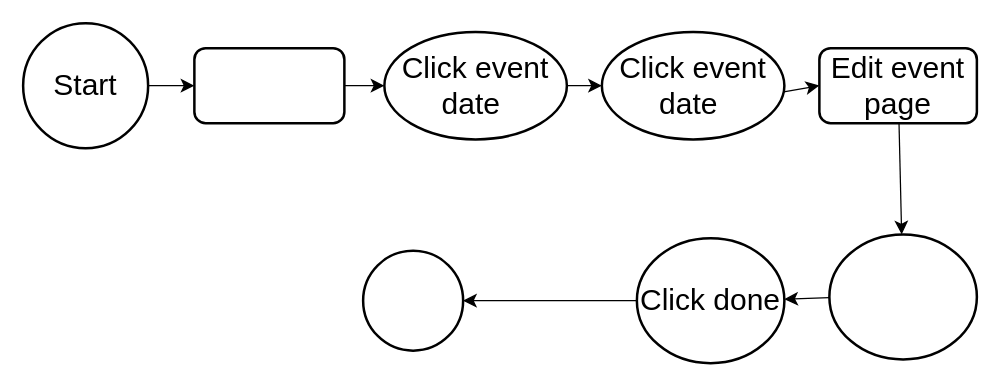
Some shapes in this 999 by 385 pixel diagram are drawn without their labels. Here are the shapes that lost their labels. From the top down, the centre of each, then its label:
(x=268, y=85): Calendar page
(x=412, y=300): End
(x=903, y=296): Edit event details
